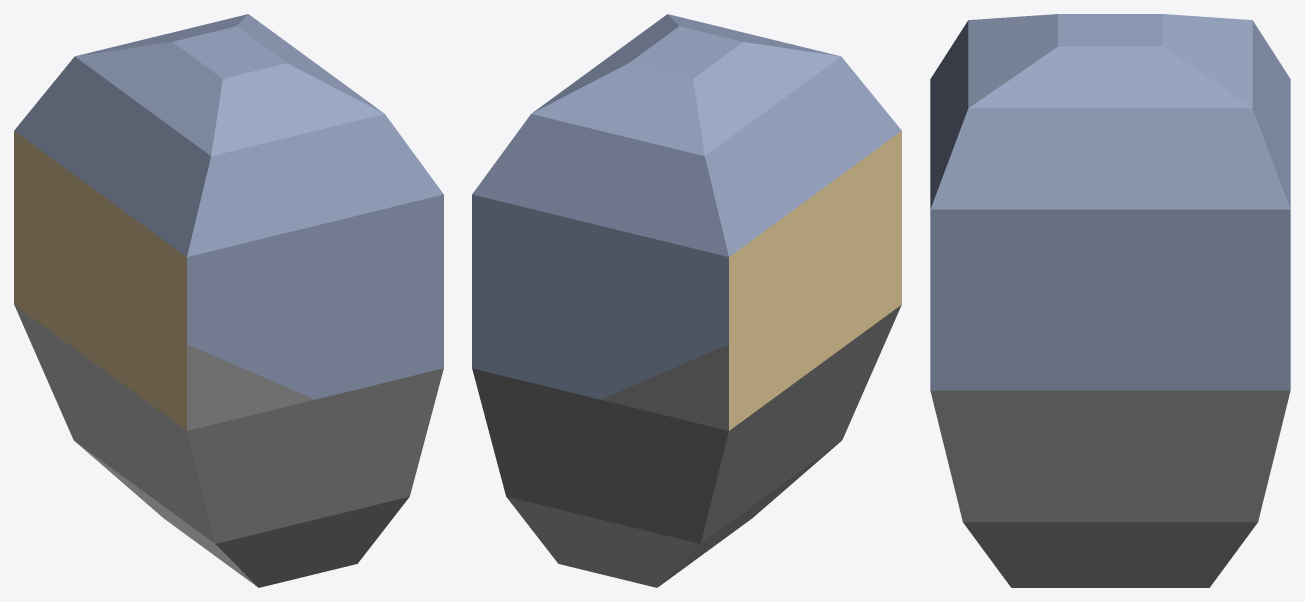
Rendered from GuardHead.fbx.
3 views of the same model, side by side, from view 1: azimuth 30°, elevation 25°; view 2: azimuth 150°, elevation 25°; view 3: azimuth 270°, elevation 25° (orthographic). The views are drawn at different scales.
Visible parts, largest first — view 1: GuardHead; view 2: GuardHead; view 3: GuardHead.
Boxes of the visible parts, left/top/right/bottom form: GuardHead: left=14, top=14, right=443, bottom=587; GuardHead: left=472, top=14, right=901, bottom=587; GuardHead: left=930, top=14, right=1290, bottom=587.
Bounding box in the file's own units: 0.165 × 0.3043 × 0.1922.
